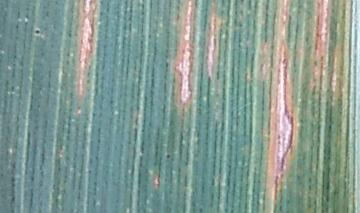tarspot: (31, 26, 42, 37), (163, 150, 172, 162)
